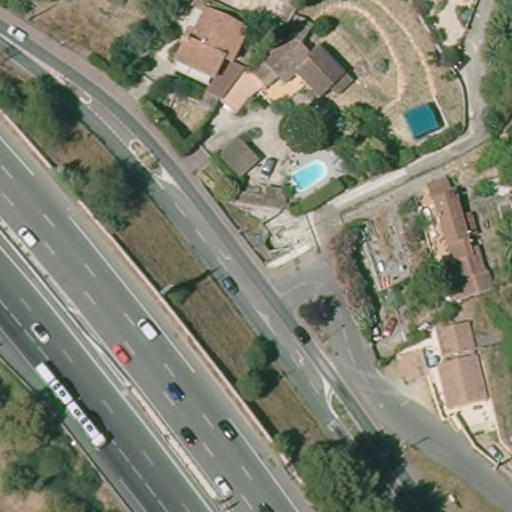pool: (286, 159, 333, 194)
